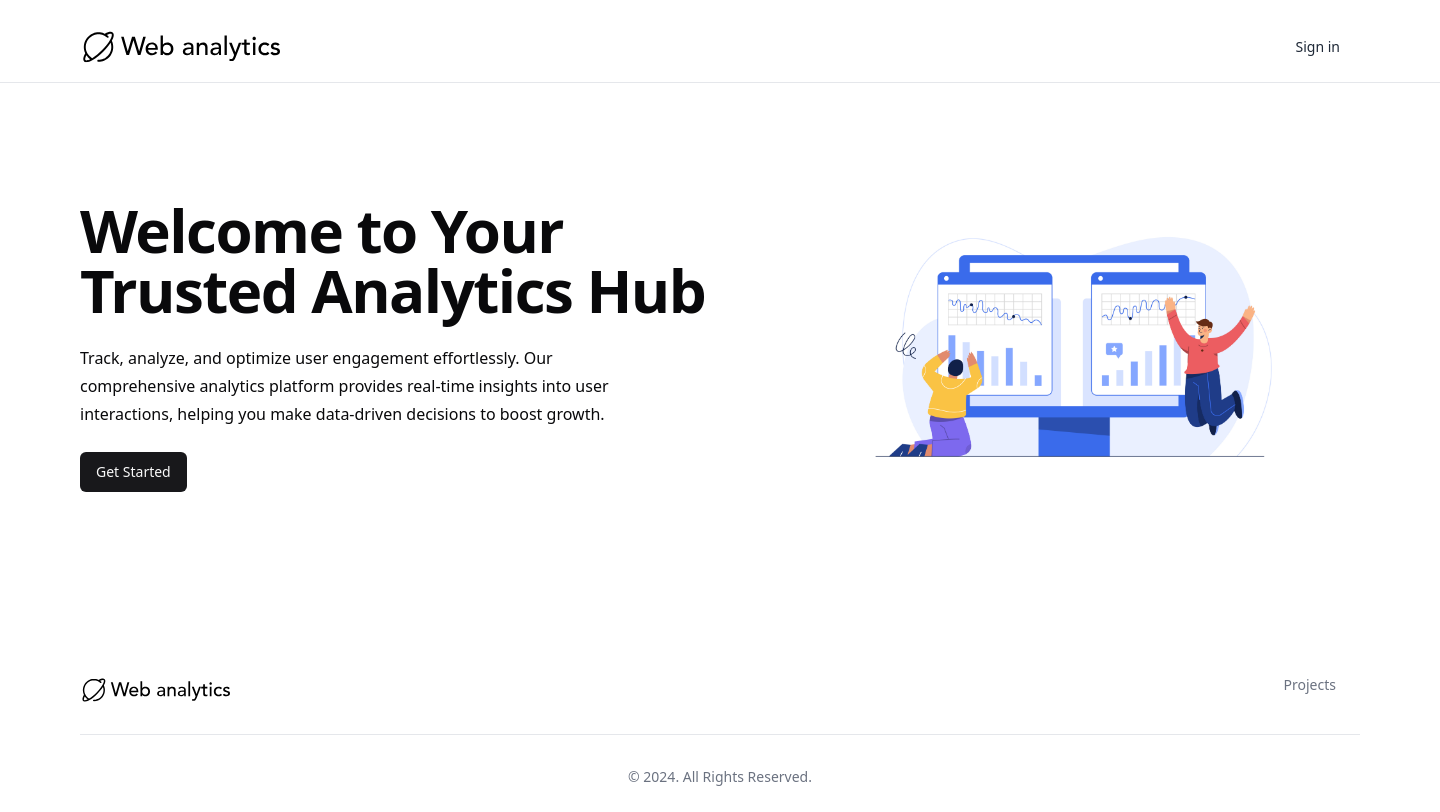
Guests › Inability to see projects for unauthorised users
This screenshot has width=1440, height=812.
Click the link "Get Started".
click(134, 472)  # box [80,452,187,492]
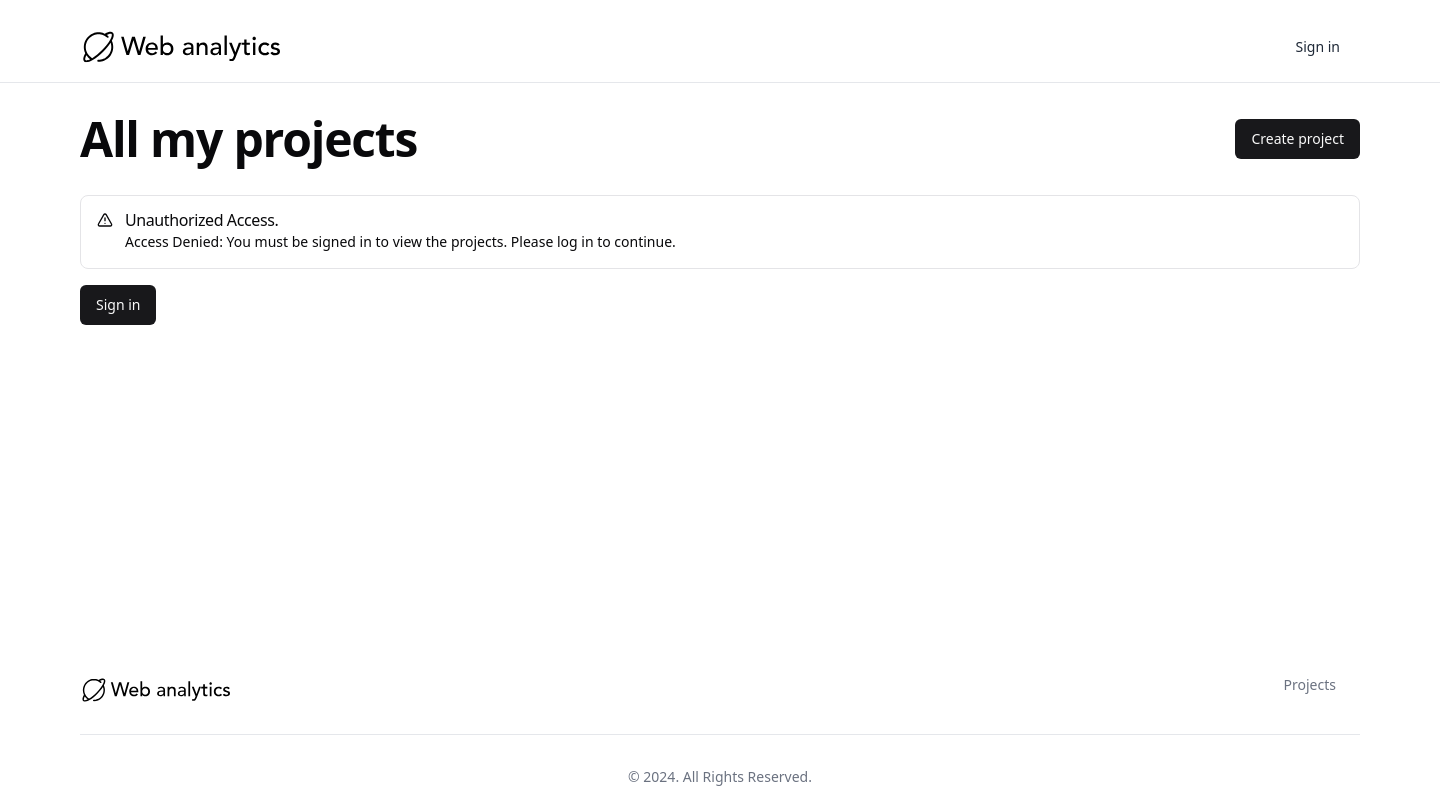
Now the message with test id "alert" shows "Unauthorized Access.", box [80,195,1360,269]
Now the message with test id "alert" shows "Access Denied: You must be signed in to view the projects. Please log in to continue.", box [80,195,1360,269]
